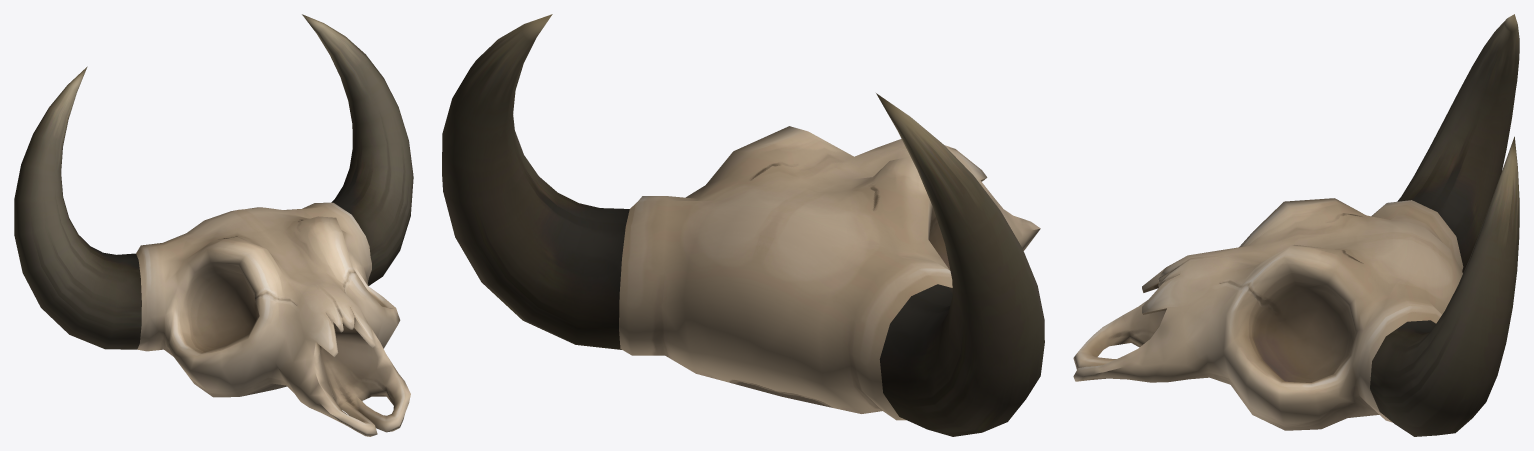
Rendered from DE_Skull_01.fbx.
3 renders of one model, left to right at view 1: azimuth 30°, elevation 25°; view 2: azimuth 150°, elevation 25°; view 3: azimuth 270°, elevation 25°, orthographic. The views are drawn at different scales.
Parts seen in each view (by area): view 1: DE_Skull_01; view 2: DE_Skull_01; view 3: DE_Skull_01.
Part boxes in pixels (<box>): DE_Skull_01: <box>14,14,413,436</box>; DE_Skull_01: <box>442,14,1044,436</box>; DE_Skull_01: <box>1073,14,1519,436</box>.
Size of the model in its own units: 2.5 by 1.67 by 2.13.
